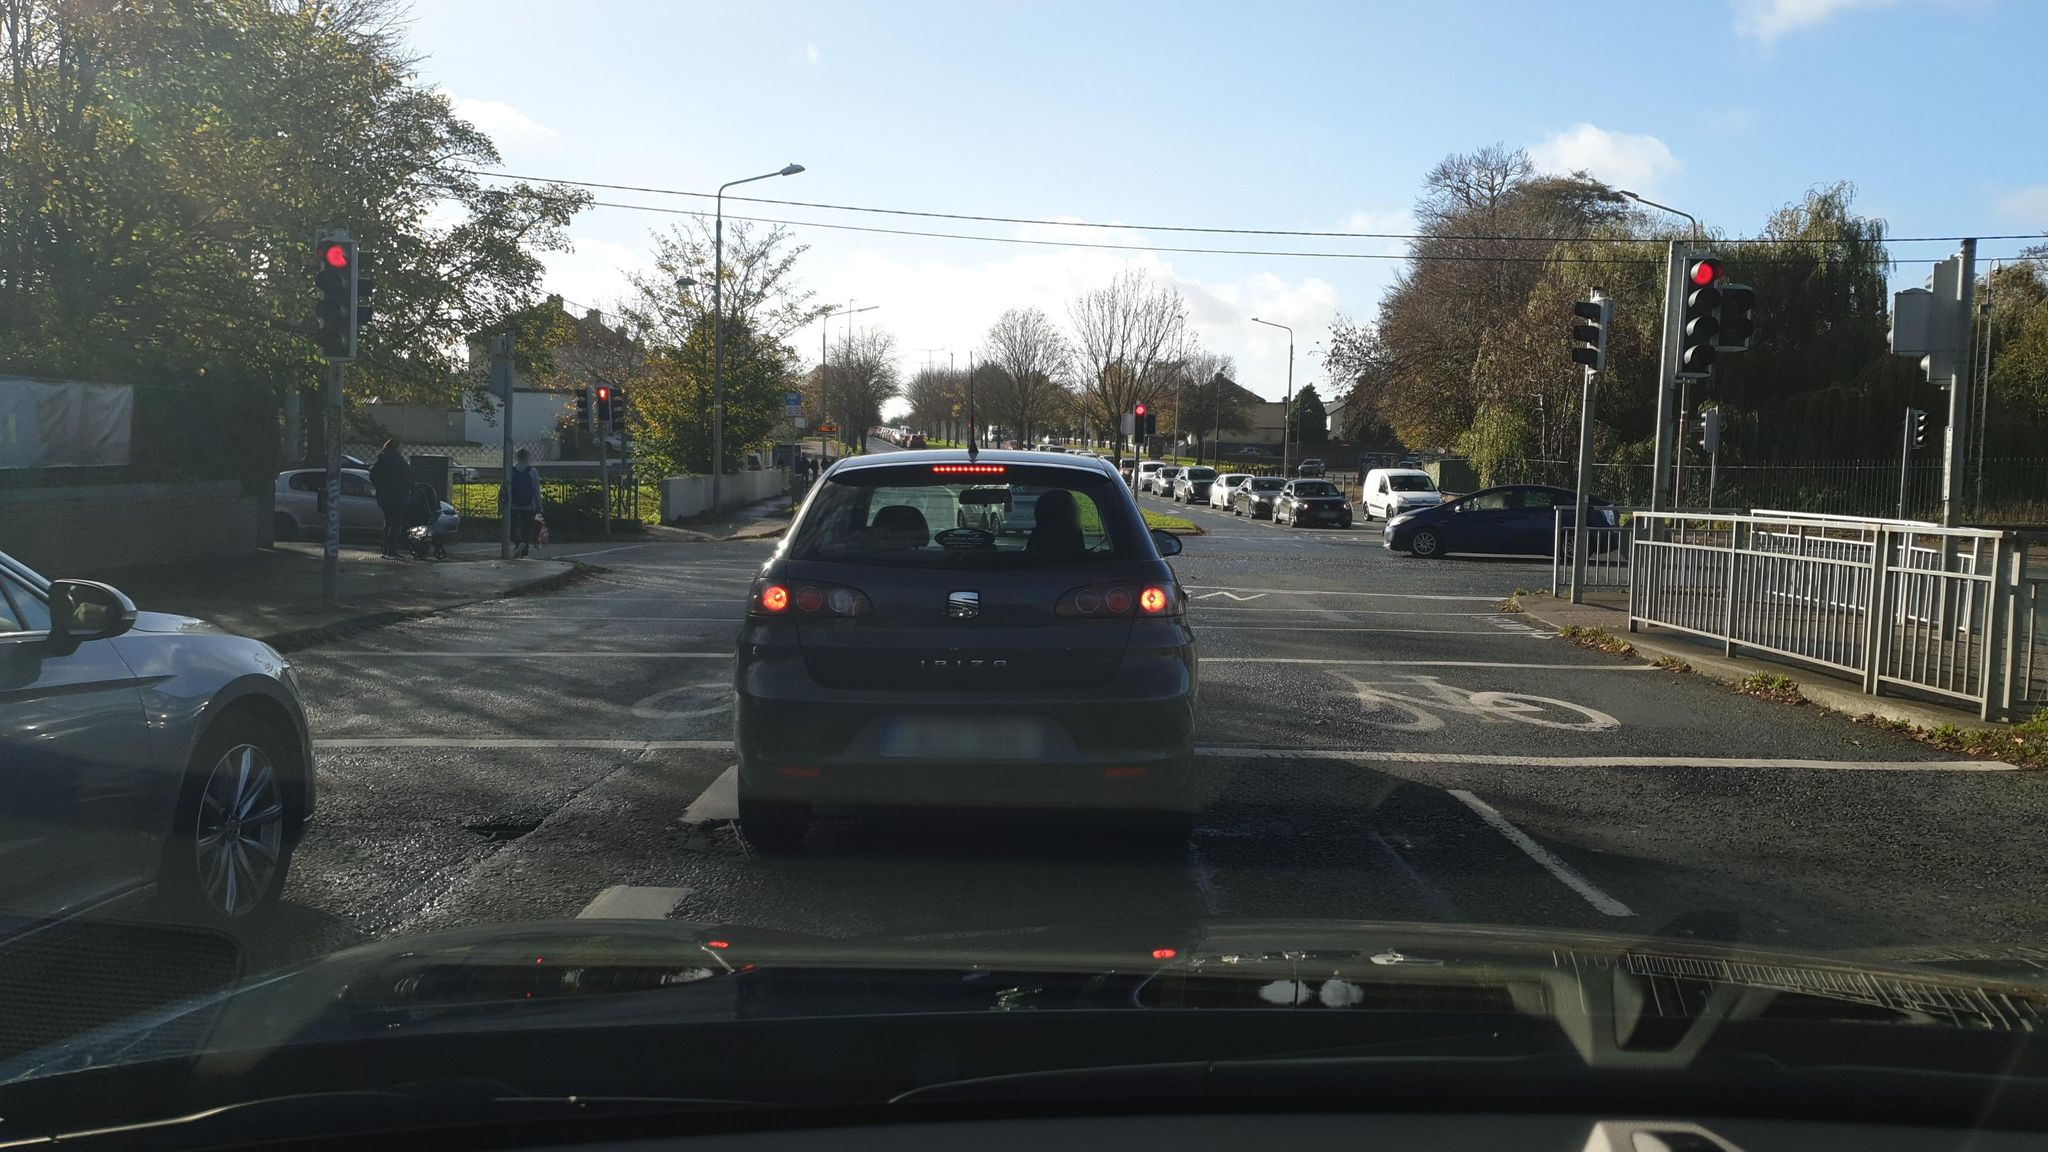vinyl banner: (1, 364, 149, 497)
